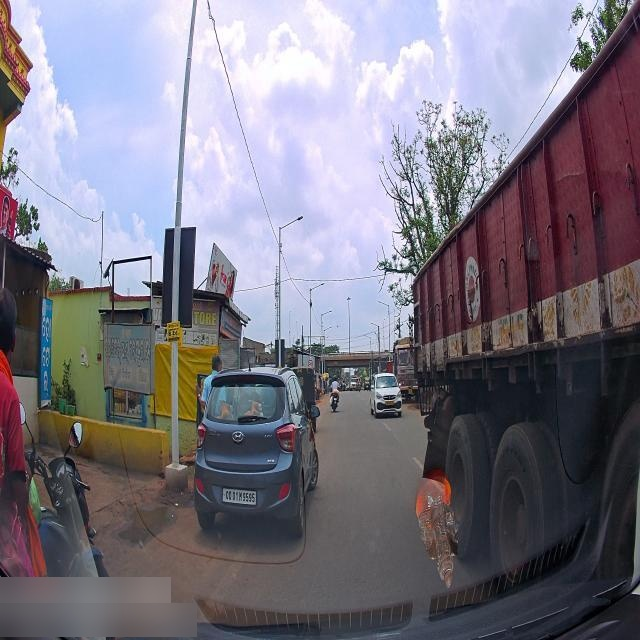pothole: (112, 494, 178, 551)
